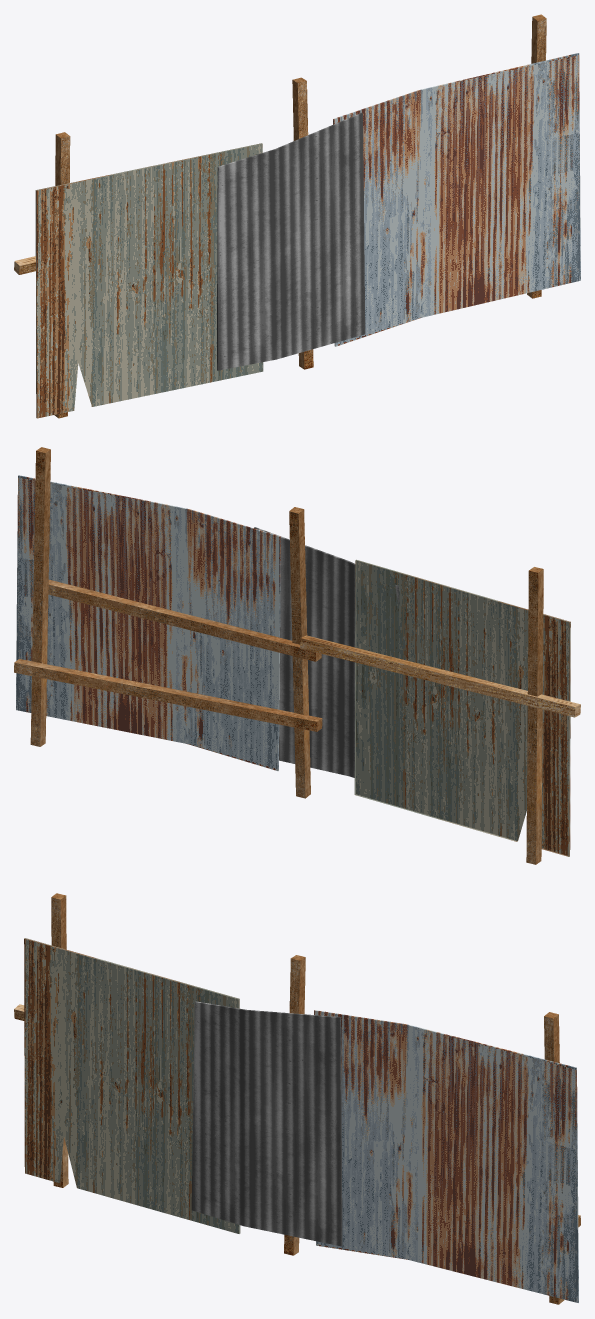
Rendered from Roof Fence v2.glb.
3 views of the same model, one above another, from view 1: azimuth 30°, elevation 25°; view 2: azimuth 150°, elevation 25°; view 3: azimuth 330°, elevation 25° (orthographic). The views are drawn at different scales.
Parts seen in each view (by area): view 1: Plane.008, Plane.005, Plane.007, Cube.018, Cube.015, Cube.014; view 2: Plane.008, Plane.005, Plane.007, Cube.017, Cube.015, Cube.014, Cube.016, Cube.013, Cube.018; view 3: Plane.008, Plane.005, Plane.007, Cube.015, Cube.018, Cube.014.
Boxes of the visible parts, x1,y1,x2,y2 form: Plane.008: (333,53,580,346); Plane.005: (35,143,263,418); Plane.007: (217,113,365,370); Cube.018: (292,77,313,369); Cube.015: (54,132,70,418); Cube.014: (527,14,546,298); Plane.008: (16,475,280,770); Plane.005: (354,559,570,856); Plane.007: (254,527,399,777); Cube.017: (14,659,322,731); Cube.015: (526,567,543,864); Cube.014: (30,447,50,746); Cube.016: (300,635,580,717); Cube.013: (48,579,321,661); Cube.018: (289,507,310,798); Plane.008: (314,1010,578,1302); Plane.005: (24,938,240,1233); Plane.007: (191,1001,342,1246); Cube.015: (51,893,68,1187); Cube.018: (284,955,305,1255); Cube.014: (544,1012,564,1304).
Size of the model in its own units: 7.19 by 3.51 by 0.697.
Materials: 4 (4 with a texture image).
